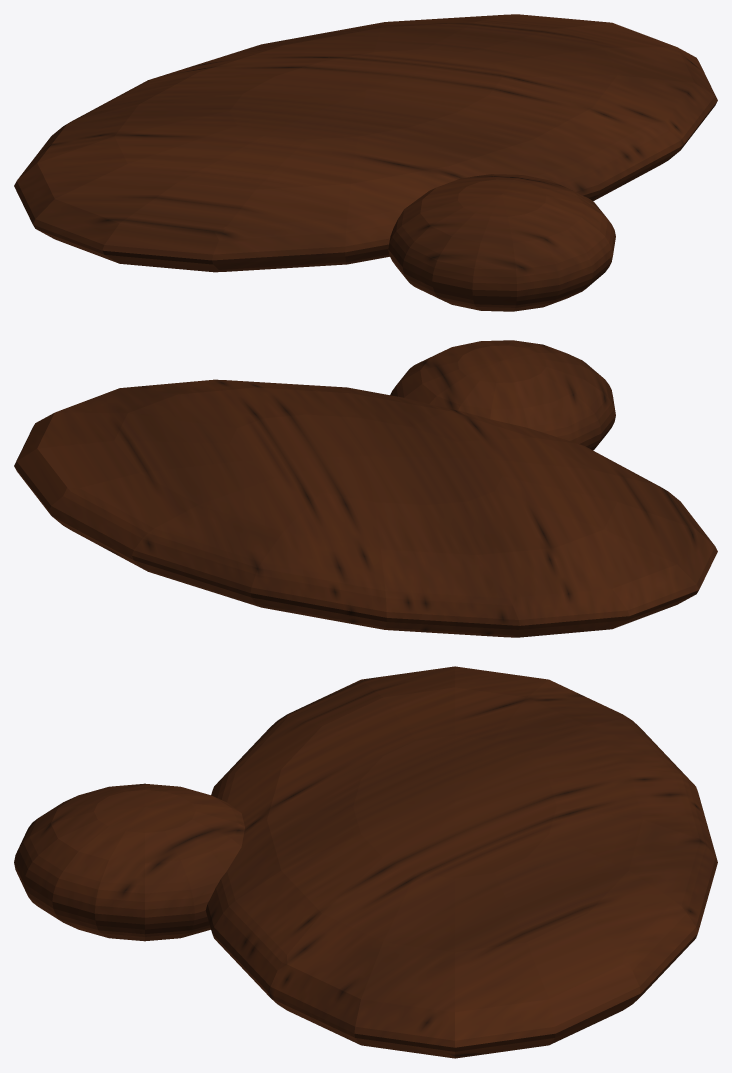
The model's file is PROP-984F6F11DA60_lod0.glb.
3 renders of one model, top to bottom at view 1: azimuth 30°, elevation 25°; view 2: azimuth 150°, elevation 25°; view 3: azimuth 270°, elevation 25°, orthographic. The views are drawn at different scales.
Parts seen in each view (by area): view 1: small_roadside_animal, small_animal_head; view 2: small_roadside_animal, small_animal_head; view 3: small_roadside_animal, small_animal_head.
Part boxes in pixels (x1=…): small_roadside_animal: x1=14, y1=14, x2=717, y2=272; small_animal_head: x1=388, y1=174, x2=615, y2=311; small_roadside_animal: x1=14, y1=379, x2=717, y2=637; small_animal_head: x1=390, y1=340, x2=615, y2=450; small_roadside_animal: x1=205, y1=666, x2=717, y2=1058; small_animal_head: x1=14, y1=783, x2=244, y2=941.
Size of the model in its own units: 0.7914 by 0.12 by 0.6355.
1 material, 1 textured.
